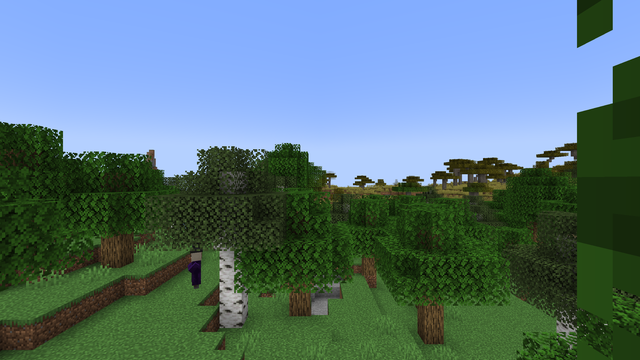sorcieres: (187, 251, 203, 288)
